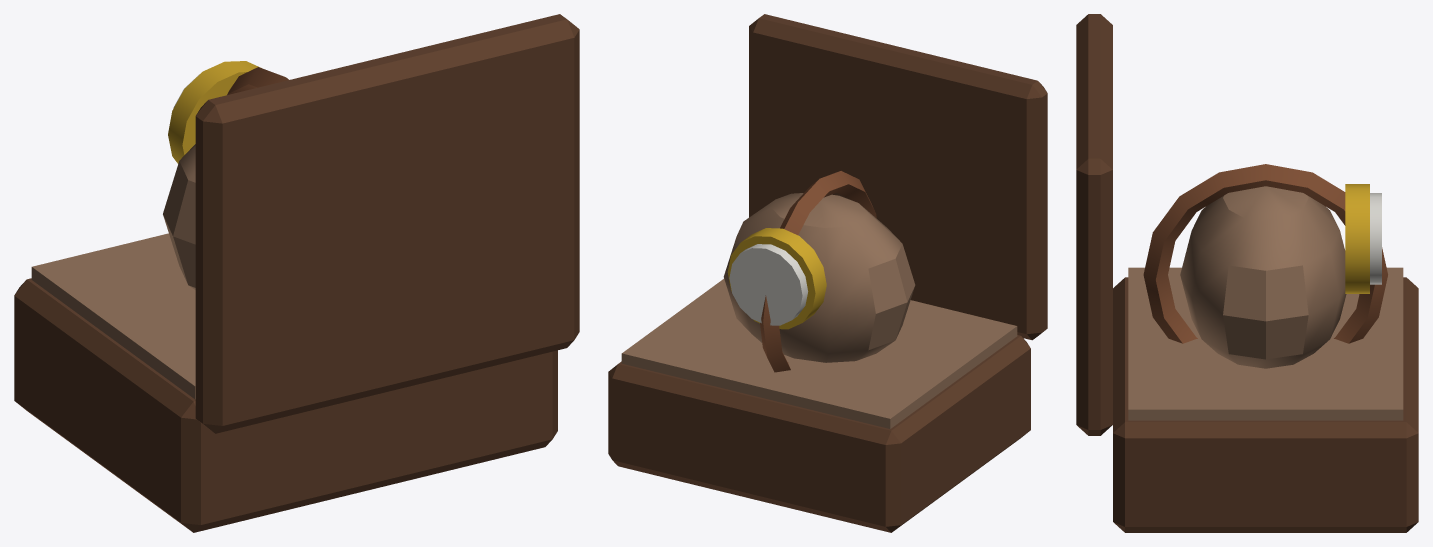
File: prop_valuables_watch_box.glb
3 renders of one model, left to right at view 1: azimuth 30°, elevation 25°; view 2: azimuth 150°, elevation 25°; view 3: azimuth 270°, elevation 25°, orthographic. The views are drawn at different scales.
Parts seen in each view (by area): view 1: Box; view 2: Box; view 3: Box.
Boxes of the visible parts, x1=… form: Box: x1=14, y1=14, x2=579, y2=532; Box: x1=608, y1=14, x2=1047, y2=532; Box: x1=1076, y1=14, x2=1418, y2=532.
Bounding box in the file's own units: 0.12 × 0.135 × 0.112.
